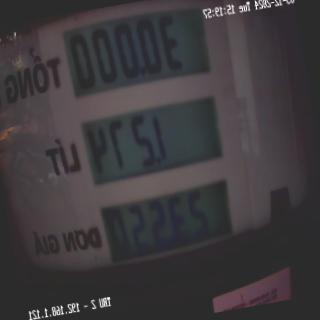screen: (56, 0, 250, 283)
